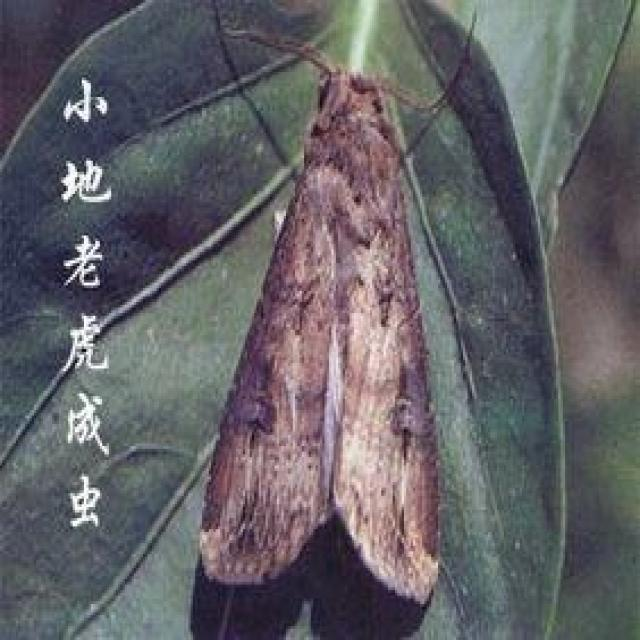black cutworm: (191, 51, 465, 616)
